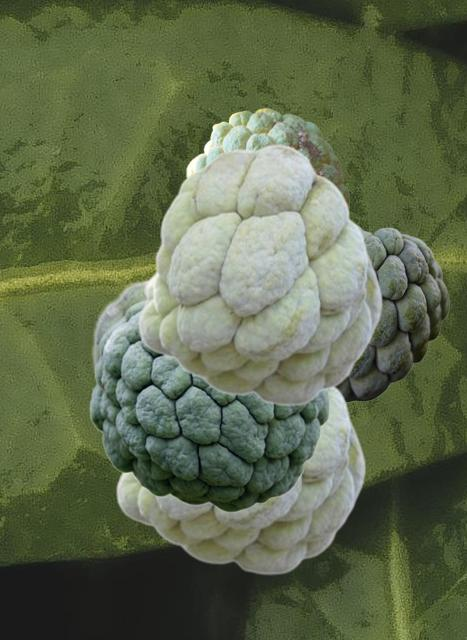atis: (137, 143, 382, 405), (89, 298, 329, 512), (115, 387, 365, 574), (338, 226, 448, 402), (186, 108, 348, 201), (91, 278, 146, 383)
